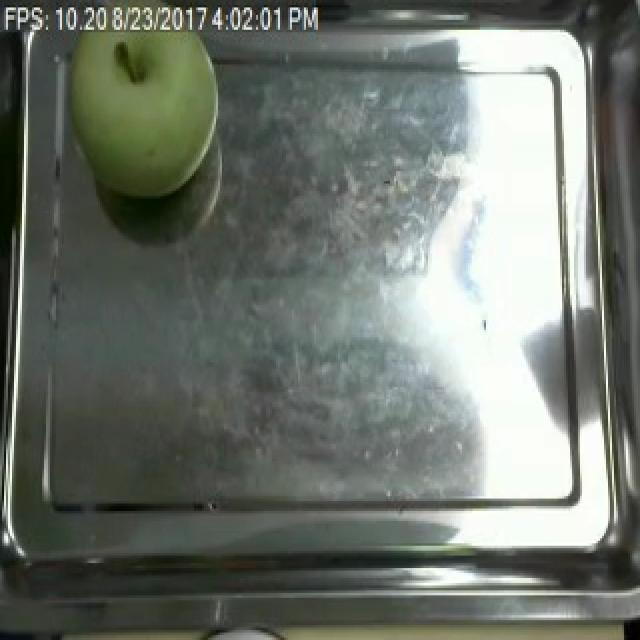50-_ripeness: (56, 0, 233, 224)
